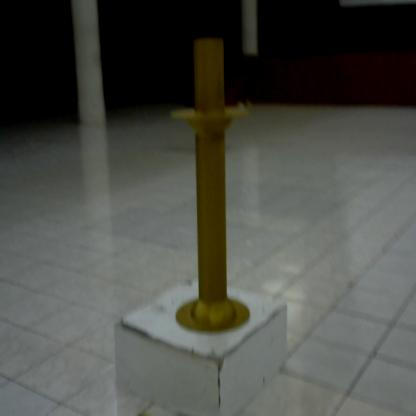pole: (163, 22, 256, 343)
